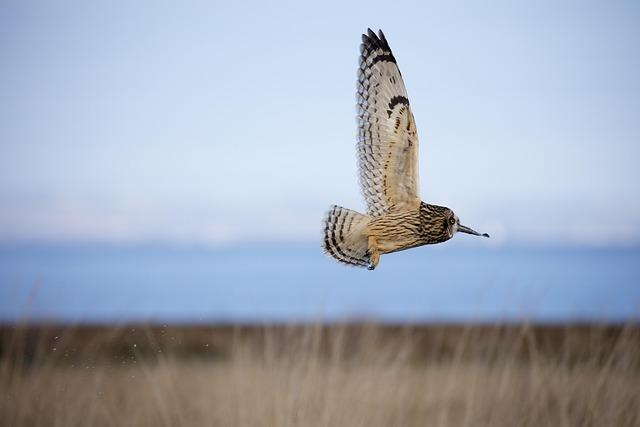Non_Gorille: (108, 0, 615, 402)
